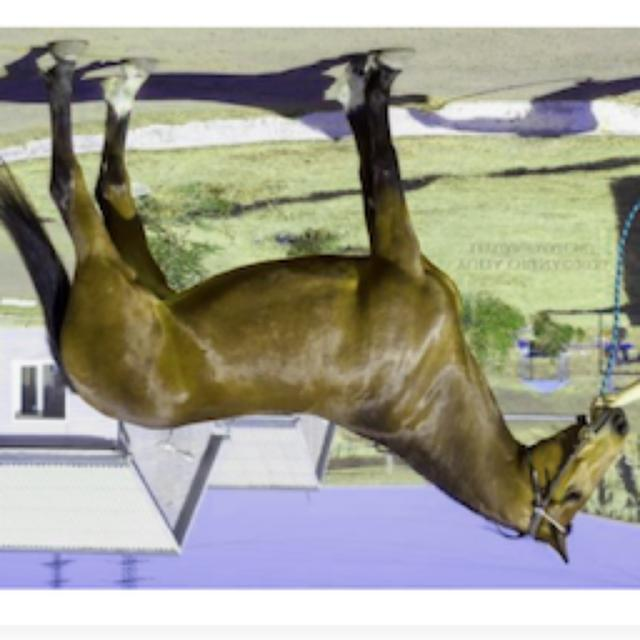Horse: (0, 40, 635, 568)
